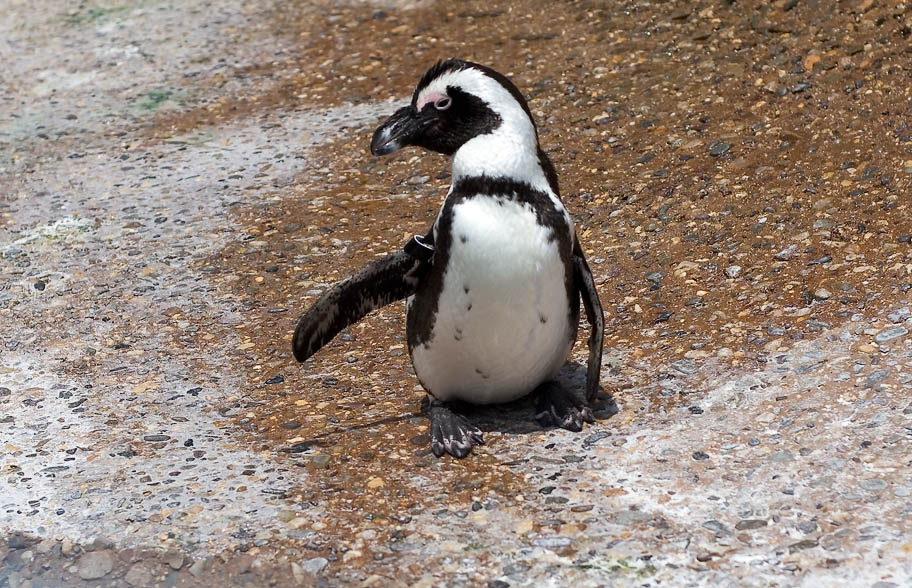penguin: (293, 57, 617, 455)
